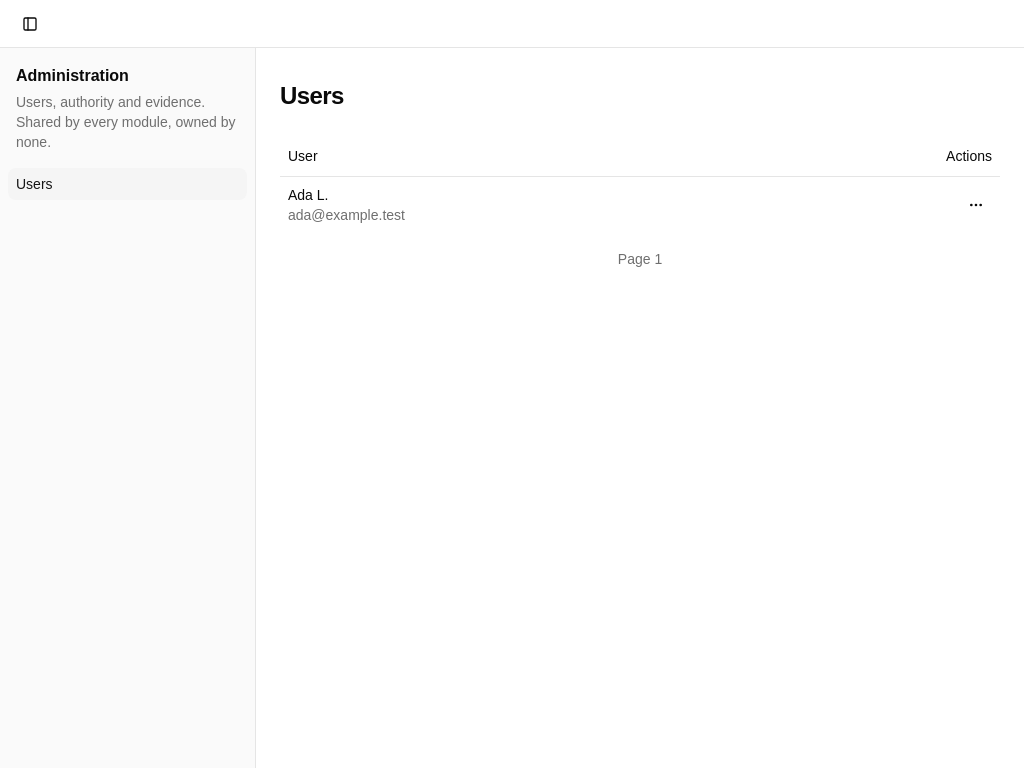
Test: who is offered Change email › is offered with user.update on an Active row, after Edit profile and before Deactivate
What coordinates should you click on to do the following:
click the button named "Actions for Ada L."
I would click on:
 (976, 204)
Its box is [960,188,992,220].
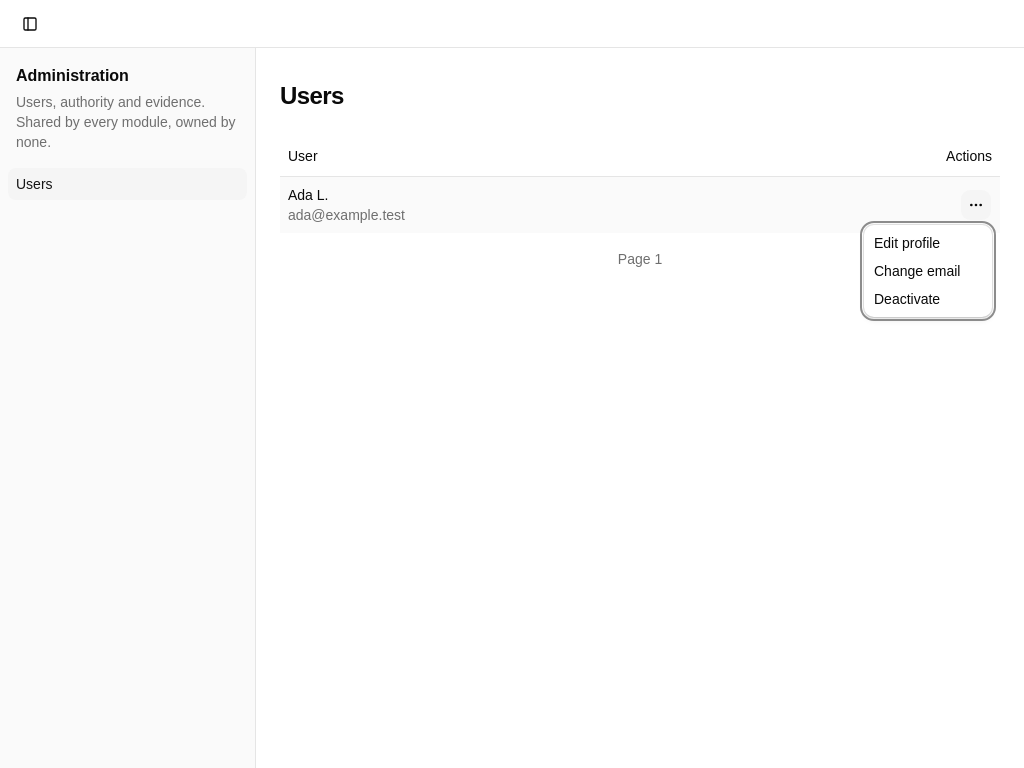
Expected: the menu item "Change email" is shown, [874,263,960,279]
